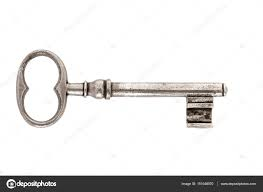key: (11, 45, 234, 135)
